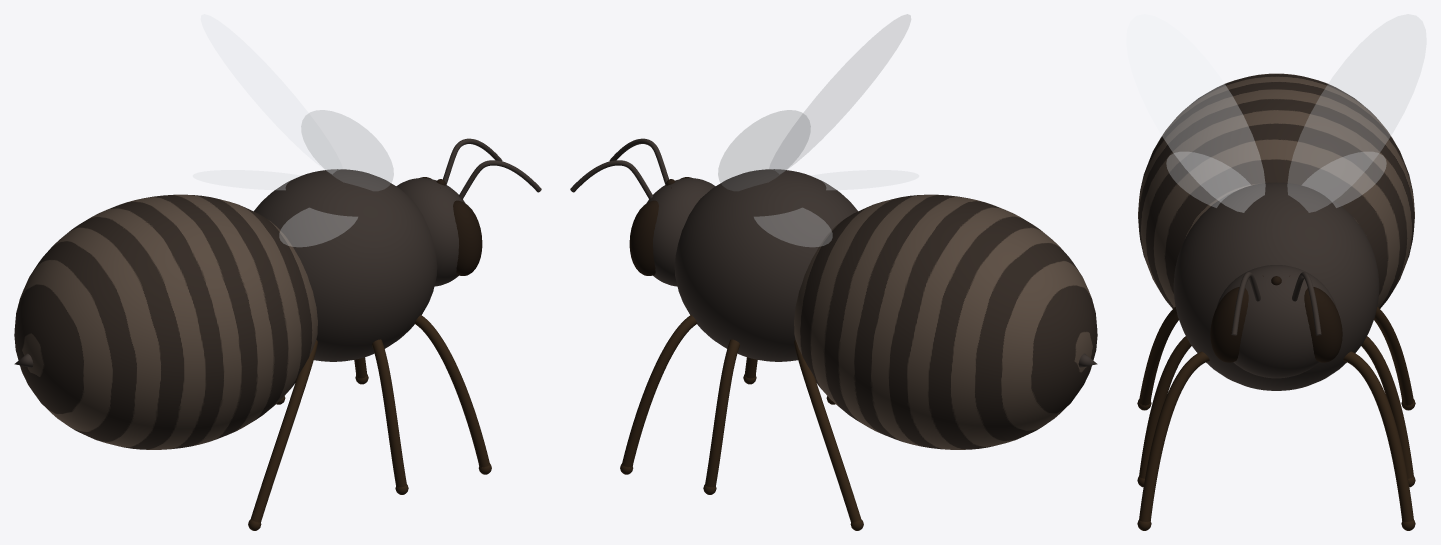
The model's file is bee-hero-osmia-low.glb.
The picture shows the model from 3 angles, left to right: view 1: azimuth 30°, elevation 25°; view 2: azimuth 150°, elevation 25°; view 3: azimuth 270°, elevation 25°; orthographic projection. The views are drawn at different scales.
Visible parts, largest first — view 1: abdomen, thorax, foreWingL, foreWingR, head, hindLegR, hindWingR, foreLegR, midLegR, compoundEyeR, hindWingL, antennaR; view 2: abdomen, thorax, foreWingR, foreWingL, head, hindLegL, hindWingL, foreLegL, midLegL, compoundEyeL, hindWingR, antennaL; view 3: abdomen, thorax, foreWingL, foreWingR, head, hindWingL, hindWingR, foreLegL, foreLegR, compoundEyeL, compoundEyeR, midLegL (+5 smaller).
Boxes of the visible parts, bbox=[...] form: abdomen: bbox=[14, 194, 317, 449]; thorax: bbox=[254, 169, 437, 361]; foreWingL: bbox=[201, 14, 342, 173]; foreWingR: bbox=[301, 110, 393, 190]; head: bbox=[396, 178, 465, 286]; hindLegR: bbox=[250, 340, 317, 522]; hindWingR: bbox=[279, 208, 357, 246]; foreLegR: bbox=[414, 315, 489, 467]; midLegR: bbox=[372, 339, 406, 487]; compoundEyeR: bbox=[453, 200, 482, 275]; hindWingL: bbox=[193, 170, 300, 189]; antennaR: bbox=[459, 160, 541, 199]; abdomen: bbox=[794, 194, 1097, 449]; thorax: bbox=[674, 169, 857, 361]; foreWingR: bbox=[769, 14, 910, 173]; foreWingL: bbox=[718, 110, 810, 190]; head: bbox=[646, 178, 715, 286]; hindLegL: bbox=[794, 340, 861, 522]; hindWingL: bbox=[754, 208, 832, 246]; foreLegL: bbox=[622, 315, 697, 467]; midLegL: bbox=[705, 339, 739, 487]; compoundEyeL: bbox=[629, 200, 658, 275]; hindWingR: bbox=[811, 170, 918, 189]; antennaL: bbox=[570, 160, 652, 199]; abdomen: bbox=[1138, 73, 1414, 308]; thorax: bbox=[1173, 182, 1379, 390]; foreWingL: bbox=[1287, 14, 1426, 212]; foreWingR: bbox=[1126, 14, 1265, 212]; head: bbox=[1216, 265, 1336, 378]; hindWingL: bbox=[1302, 152, 1386, 207]; hindWingR: bbox=[1166, 152, 1250, 207]; foreLegL: bbox=[1343, 351, 1413, 521]; foreLegR: bbox=[1139, 351, 1209, 521]; compoundEyeL: bbox=[1304, 287, 1342, 362]; compoundEyeR: bbox=[1210, 287, 1248, 362]; midLegL: bbox=[1361, 336, 1413, 478].
Size of the model in its own units: 1.28 by 0.9763 by 0.6149.
5 materials, 1 textured.
